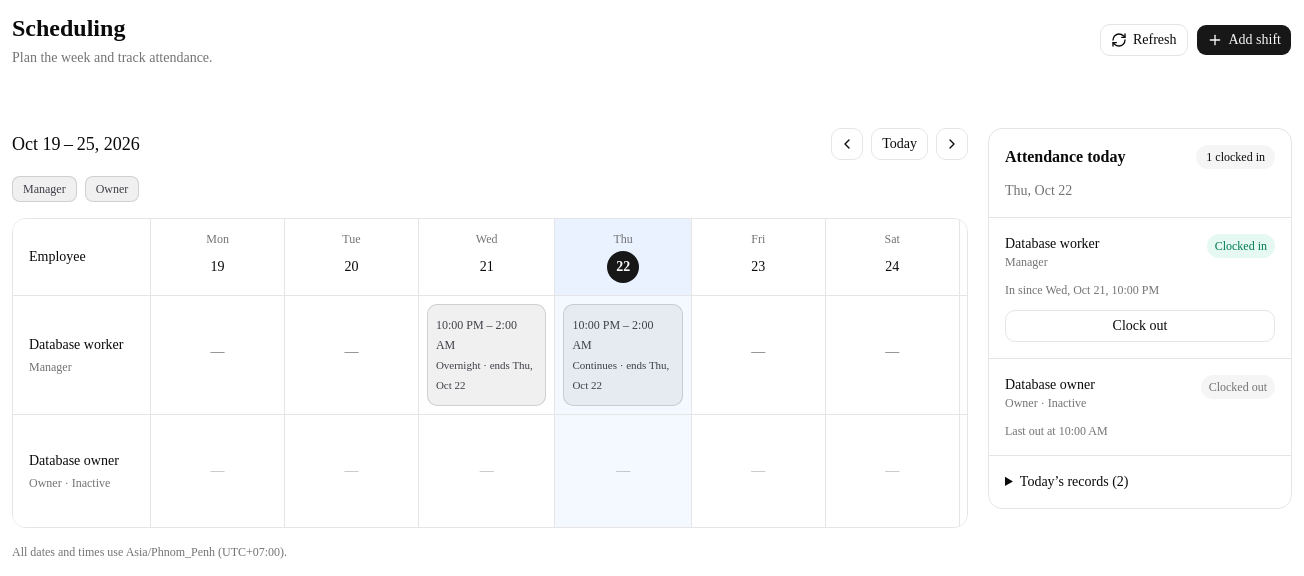
Test case: week navigation ignores older responses that finish after the latest week
expect the text "Overnight · ends Thu, Oct 22" is shown: met, box [436,355,537,395]
Click the button named "Next week": (952, 144) [936,128,968,160]
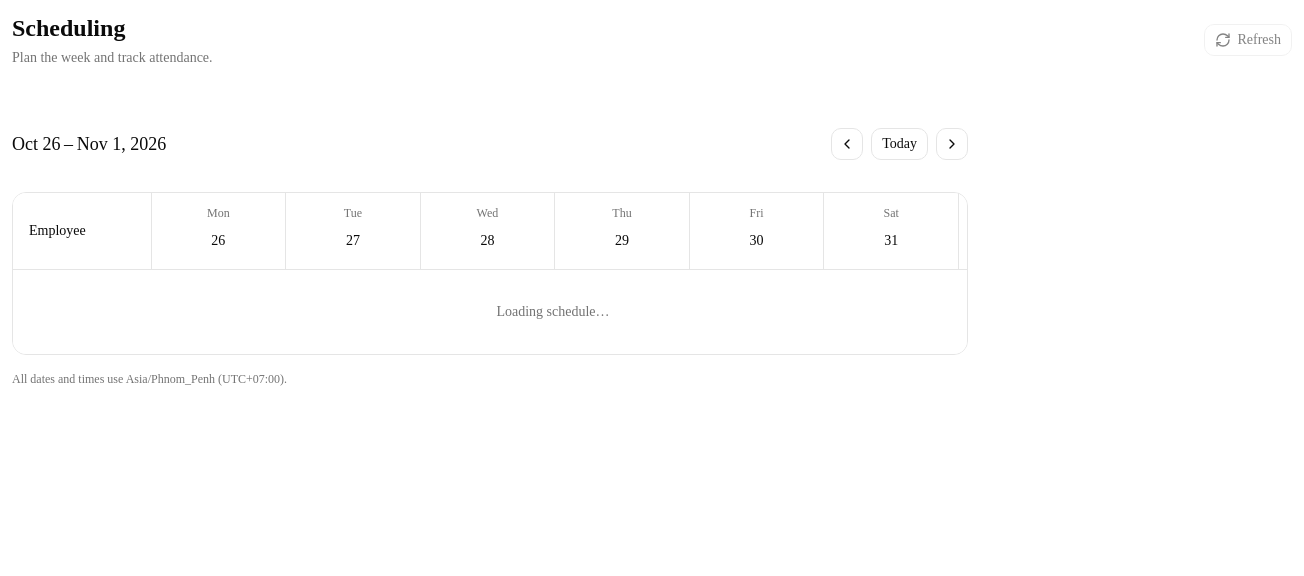
expect the text "Loading schedule…" is shown: met, box [496,304,610,319]
expect the text "Overnight" is gone: met
Click the button named "Next week": (952, 144) [936,128,968,160]
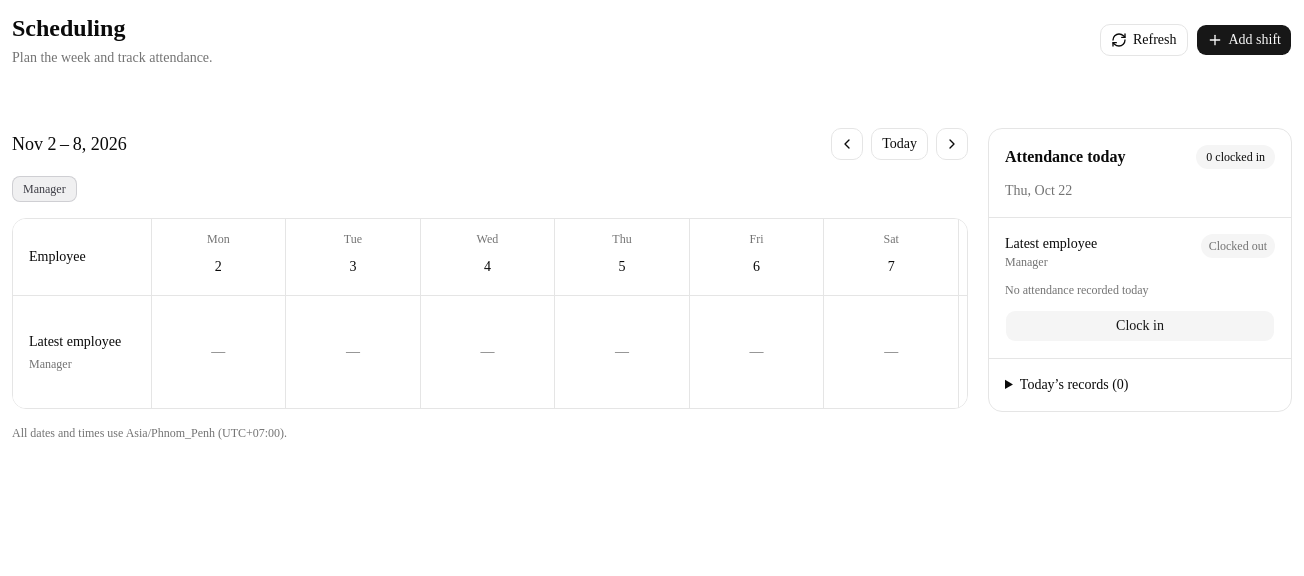
expect the text "Database worker" is not shown: met
expect the button with aria-label "Clock in Latest employee" is shown: met, box [1005,310,1275,342]
expect the column heading "Latest employee Manager" is shown: met, box [13,296,151,408]
